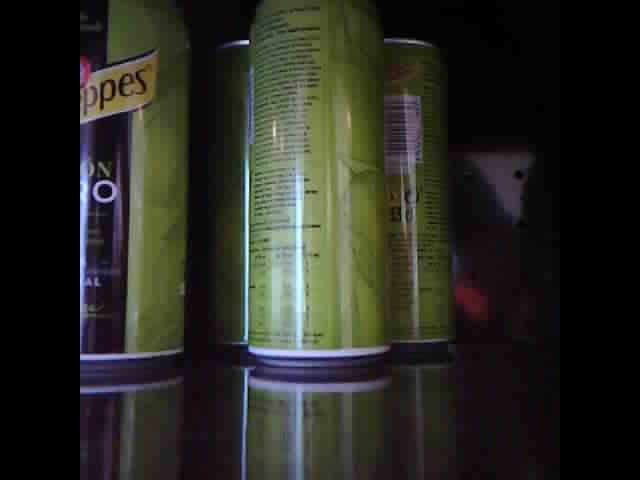schweppes: (247, 1, 390, 367), (79, 1, 192, 368), (386, 25, 457, 347), (219, 18, 251, 350)
